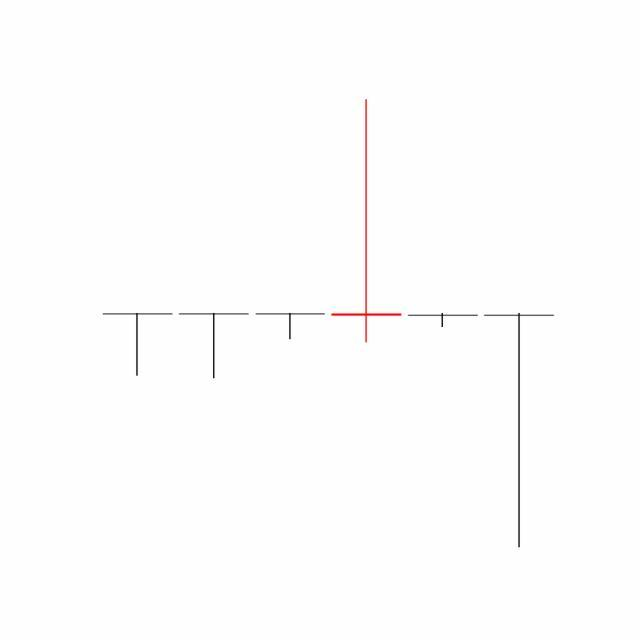Dragonfly Doji: (404, 312, 482, 328)
